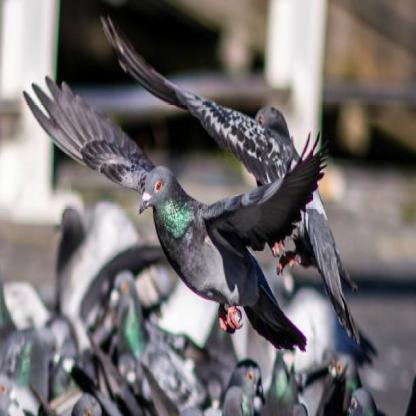Flying Rat: (27, 82, 336, 358)
